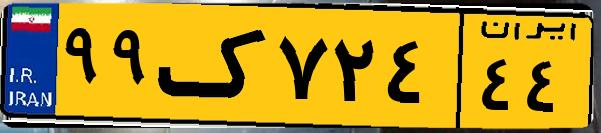2: (330, 28, 385, 110)
4: (385, 28, 445, 110), (475, 38, 525, 113), (525, 38, 570, 115)
7: (270, 28, 330, 110)
9: (57, 26, 110, 100), (110, 28, 158, 98)
ک: (158, 12, 270, 120)
